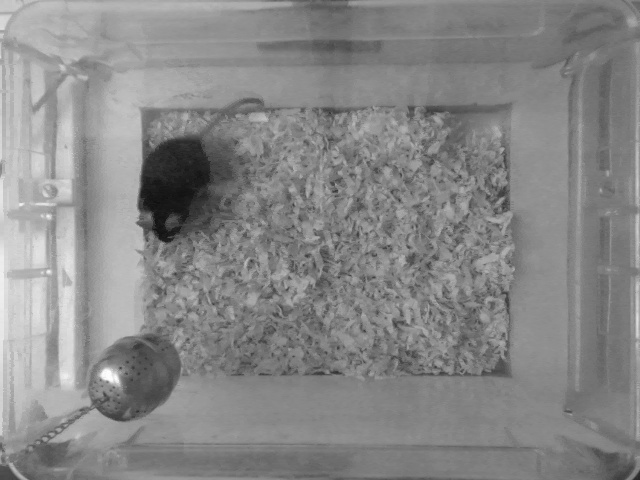mice: (132, 93, 269, 243)
